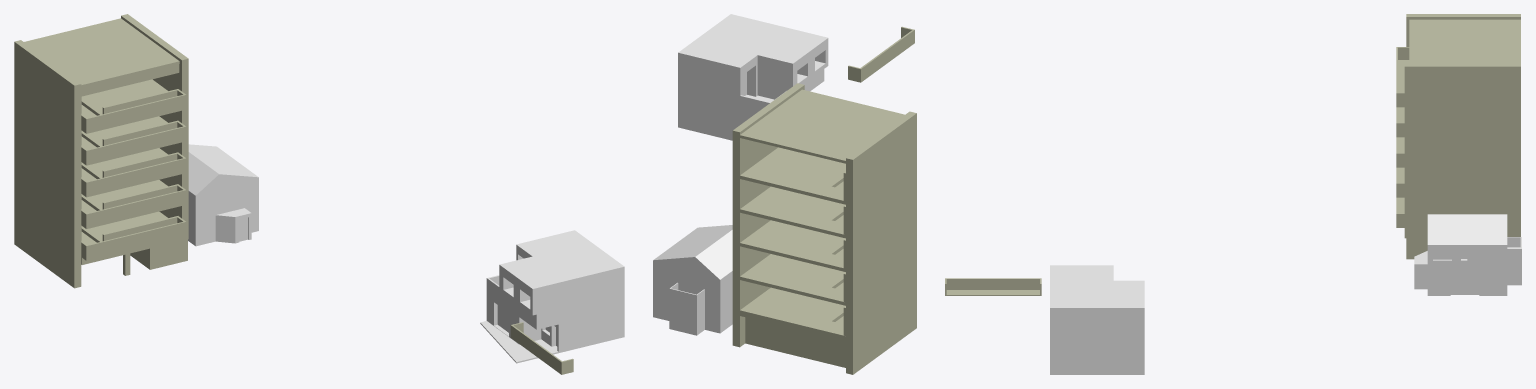
Rendered from streetScene_house_fix.fbx.
The picture shows the model from 3 angles, left to right: view 1: azimuth 30°, elevation 25°; view 2: azimuth 150°, elevation 25°; view 3: azimuth 270°, elevation 25°; orthographic projection. The views are drawn at different scales.
Visible parts, largest first — view 1: オブジェクト_13, オブジェクト_812, オブジェクト_126, オブジェクト_334; view 2: オブジェクト_13, オブジェクト_812, オブジェクト_126, オブジェクト_334; view 3: オブジェクト_13, オブジェクト_812, オブジェクト_126, オブジェクト_334.
Boxes of the visible parts, x1,y1,x2,y2 form: オブジェクト_13: [14, 14, 188, 288]; オブジェクト_812: [480, 230, 624, 363]; オブジェクト_126: [188, 144, 258, 246]; オブジェクト_334: [510, 322, 573, 374]; オブジェクト_13: [732, 83, 916, 374]; オブジェクト_812: [678, 14, 828, 140]; オブジェクト_126: [653, 225, 732, 335]; オブジェクト_334: [848, 26, 914, 82]; オブジェクト_13: [1396, 14, 1520, 259]; オブジェクト_812: [1050, 265, 1144, 374]; オブジェクト_126: [1414, 214, 1521, 295]; オブジェクト_334: [945, 278, 1041, 295].
Bounding box in the file's own units: 3586 × 1915 × 5194.
